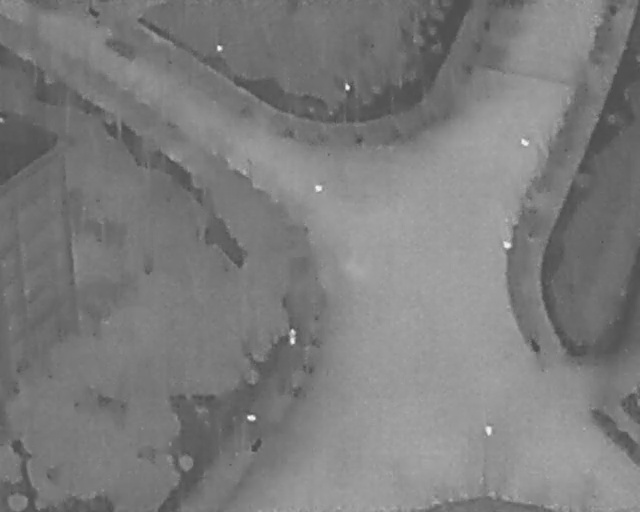Person: (288, 327, 297, 345)
